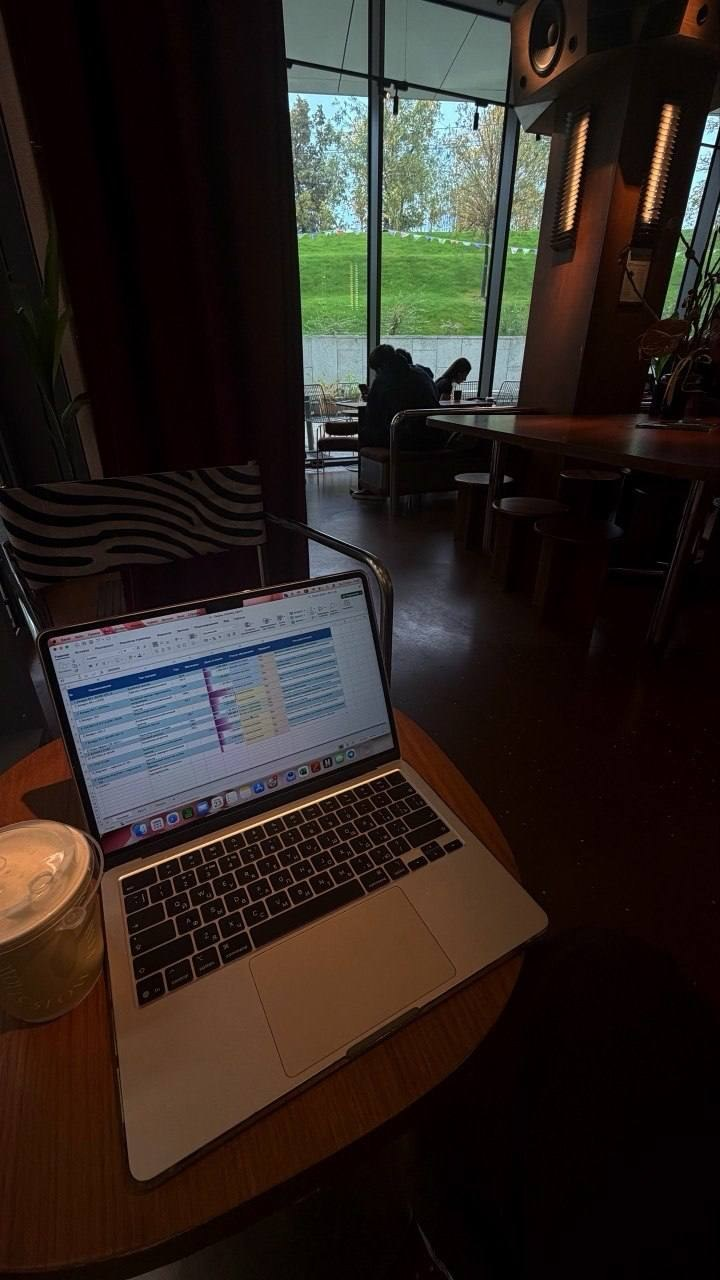laptop: (36, 568, 549, 1185)
